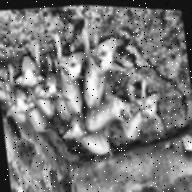boar: (0, 15, 165, 176)
